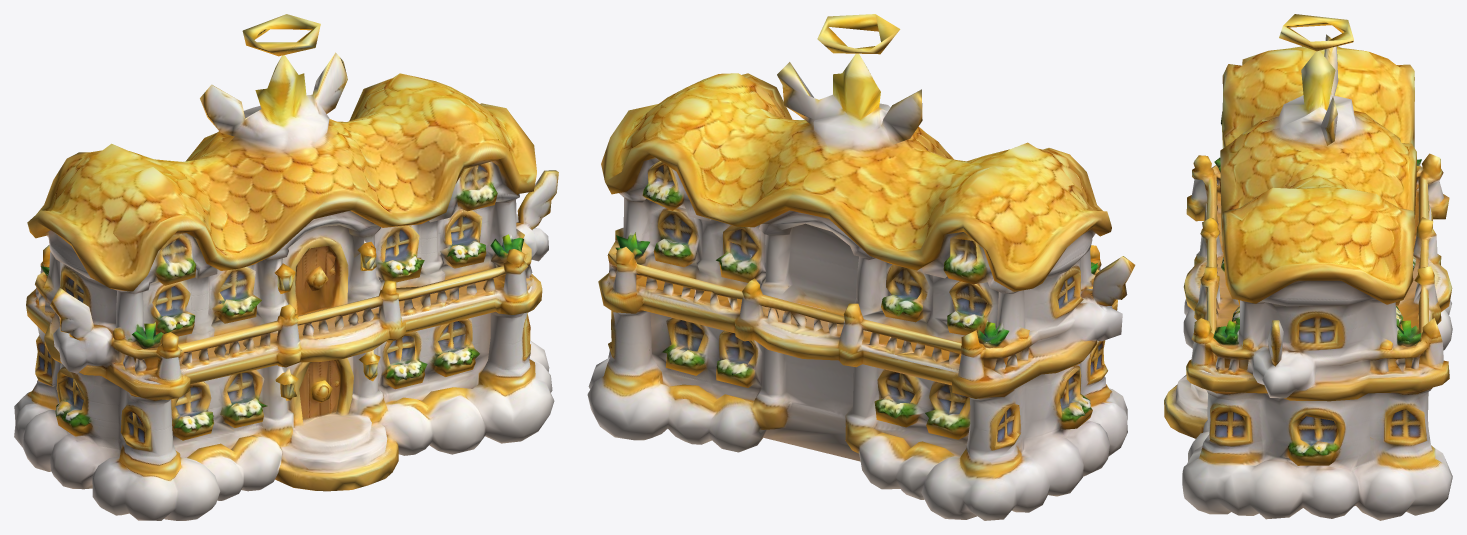
File: Town_Halo_HouseC_HD.glb
The picture shows the model from 3 angles, left to right: view 1: azimuth 30°, elevation 25°; view 2: azimuth 150°, elevation 25°; view 3: azimuth 270°, elevation 25°; orthographic projection. The views are drawn at different scales.
Parts seen in each view (by area): view 1: tripo_node_328d3b19-4f38-42e1-b331-c7b2e009db7f; view 2: tripo_node_328d3b19-4f38-42e1-b331-c7b2e009db7f; view 3: tripo_node_328d3b19-4f38-42e1-b331-c7b2e009db7f.
Part boxes in pixels (<box>): tripo_node_328d3b19-4f38-42e1-b331-c7b2e009db7f: <box>14,14,558,520</box>; tripo_node_328d3b19-4f38-42e1-b331-c7b2e009db7f: <box>587,14,1135,520</box>; tripo_node_328d3b19-4f38-42e1-b331-c7b2e009db7f: <box>1164,14,1452,520</box>.
Size of the model in its own units: 0.9815 by 0.7658 by 0.4985.
1 material, 1 textured.
